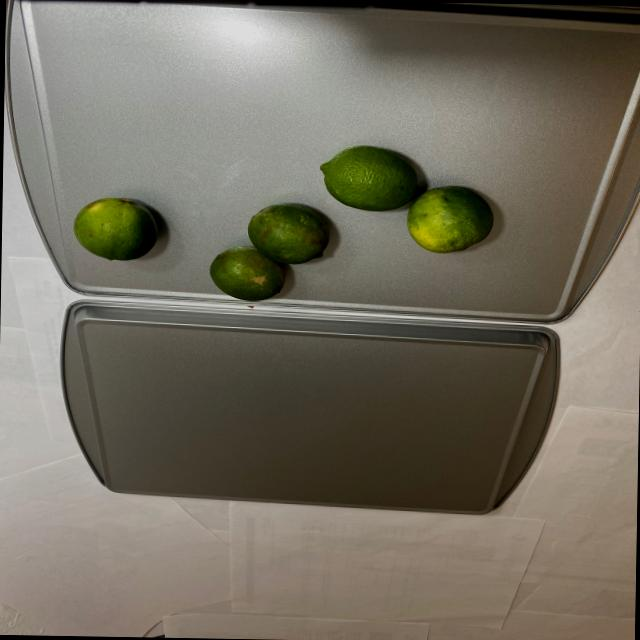lemon: (204, 141, 501, 306), (70, 194, 160, 262)
